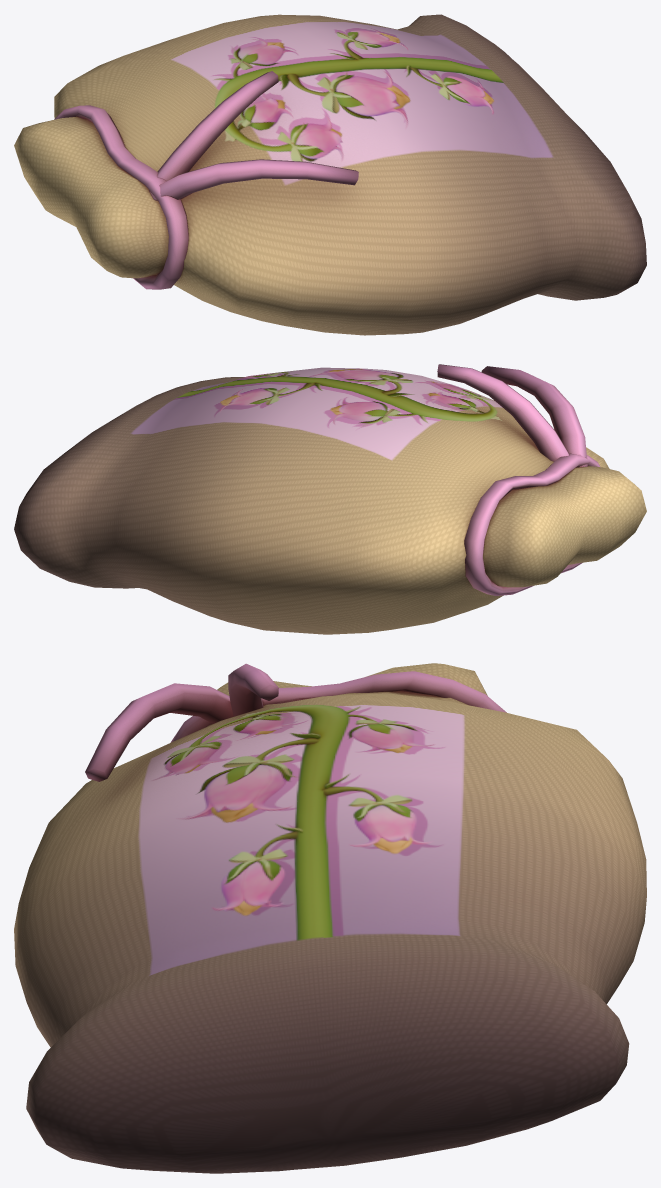
Rendered from BelladonaSeed.fbx.
The picture shows the model from 3 angles, top to bottom: view 1: azimuth 30°, elevation 25°; view 2: azimuth 150°, elevation 25°; view 3: azimuth 270°, elevation 25°; orthographic projection. The views are drawn at different scales.
Parts seen in each view (by area): view 1: SemillasBelladona; view 2: SemillasBelladona; view 3: SemillasBelladona.
Boxes of the visible parts, x1,y1,x2,y2 form: SemillasBelladona: [14, 14, 646, 335]; SemillasBelladona: [14, 364, 646, 634]; SemillasBelladona: [14, 663, 646, 1173].
Bounding box in the file's own units: 59.68 × 29.34 × 49.28.
Materials: 1 (1 with a texture image).
